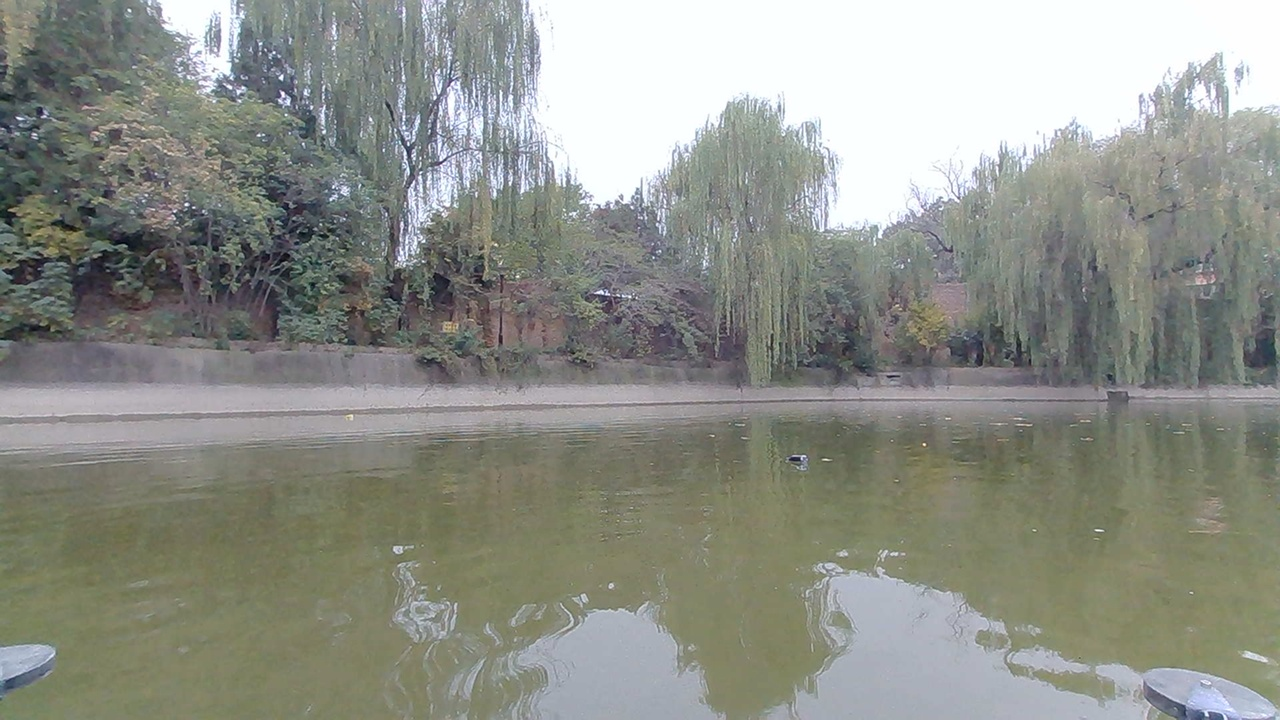bottle: (786, 448, 814, 474)
